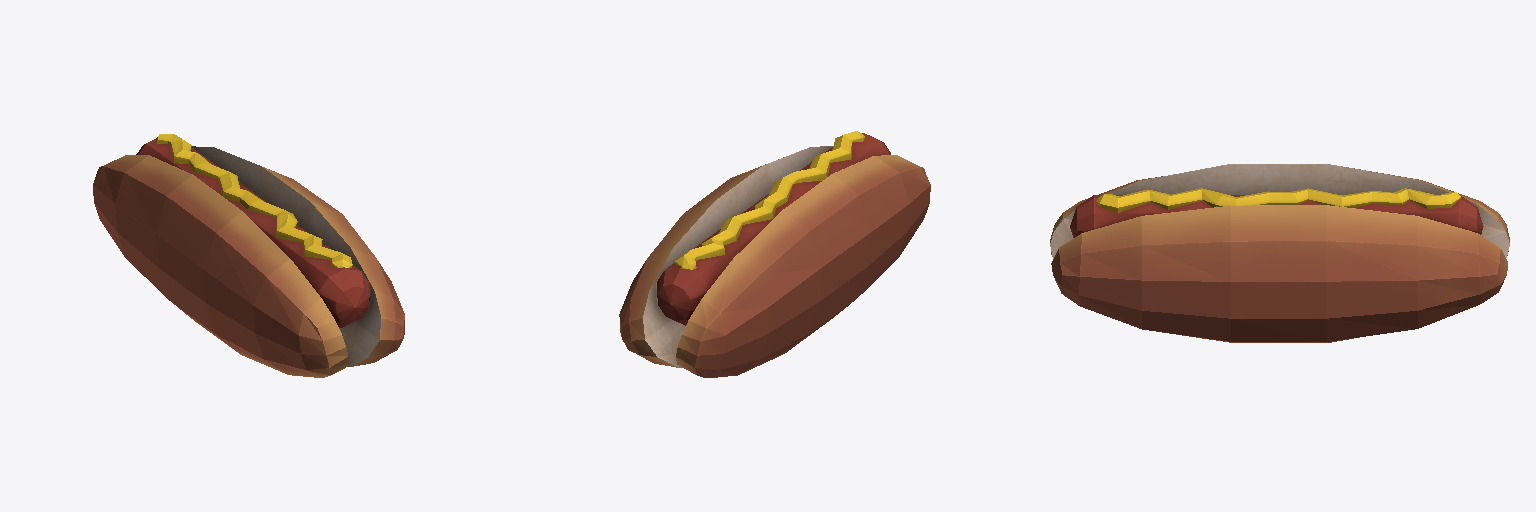
3 renders of one model, left to right at view 1: azimuth 30°, elevation 25°; view 2: azimuth 150°, elevation 25°; view 3: azimuth 270°, elevation 25°, orthographic.
Visible parts, largest first — view 1: Hotdog; view 2: Hotdog; view 3: Hotdog.
Boxes of the visible parts, x1=… form: Hotdog: x1=93, y1=134, x2=404, y2=377; Hotdog: x1=619, y1=131, x2=930, y2=377; Hotdog: x1=1050, y1=164, x2=1509, y2=342.
Size of the model in its own units: 0.1324 by 0.119 by 0.3395.
1 materials, 1 textured.